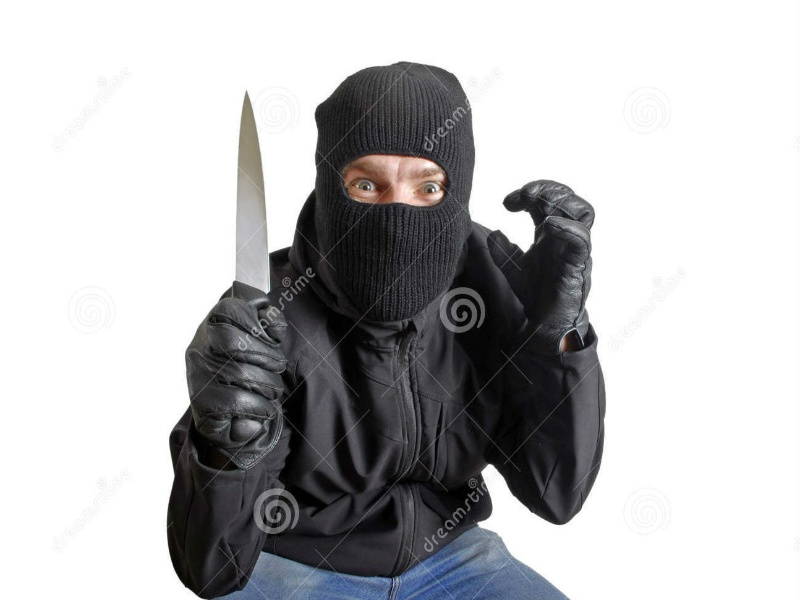balaclava: (314, 61, 475, 323)
hand: (486, 179, 597, 328), (183, 300, 287, 448)
knife: (232, 89, 272, 307)
person: (166, 65, 608, 600)
